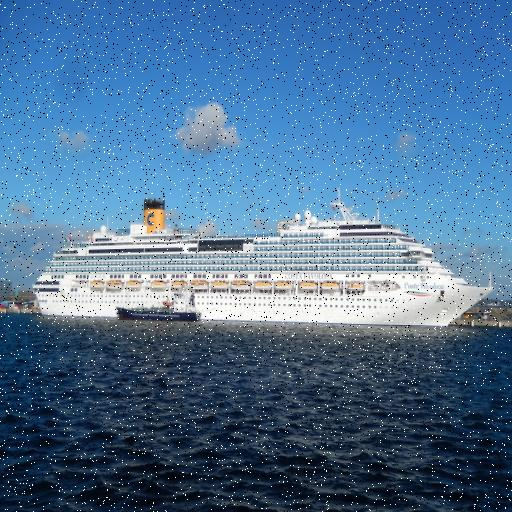cruises: (30, 190, 500, 333)
